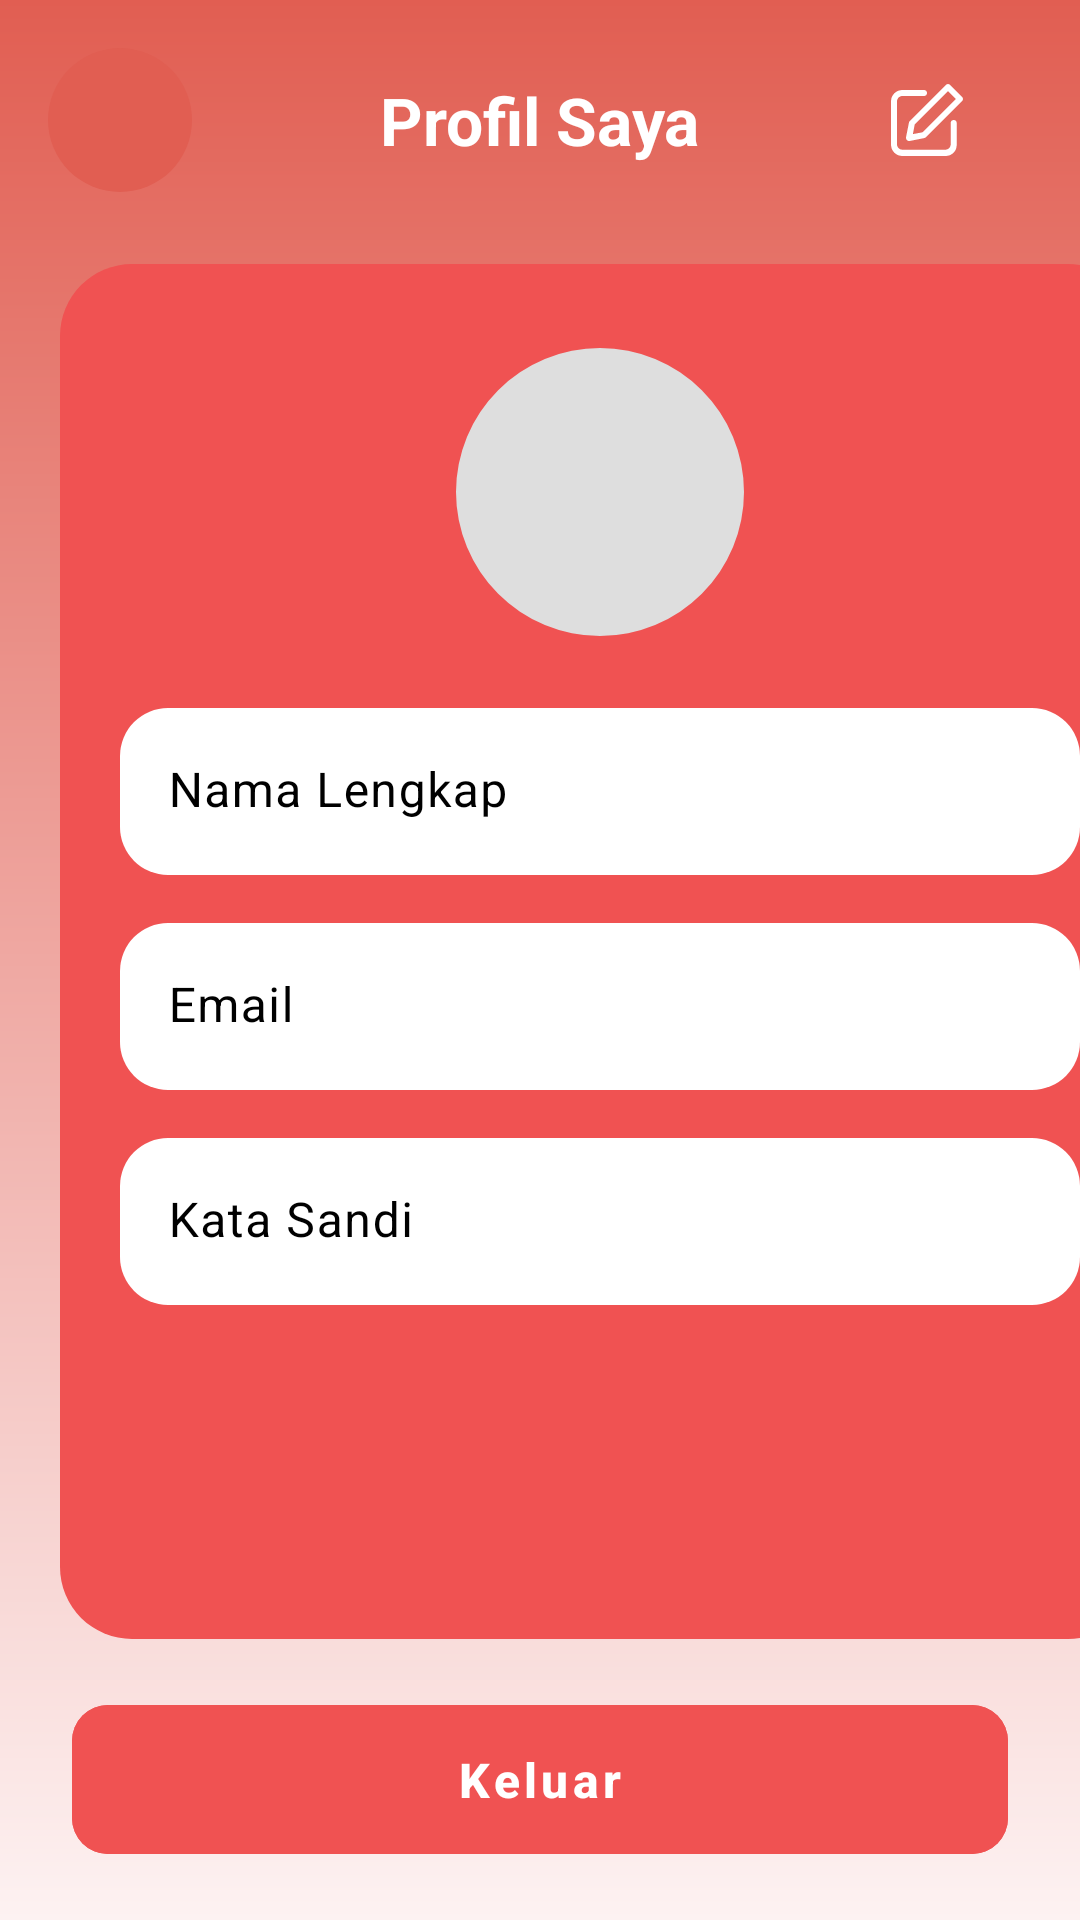

Where to tap for icons on this 1080×1920 app screen, as point (x, y):
edit: point (927, 120)
